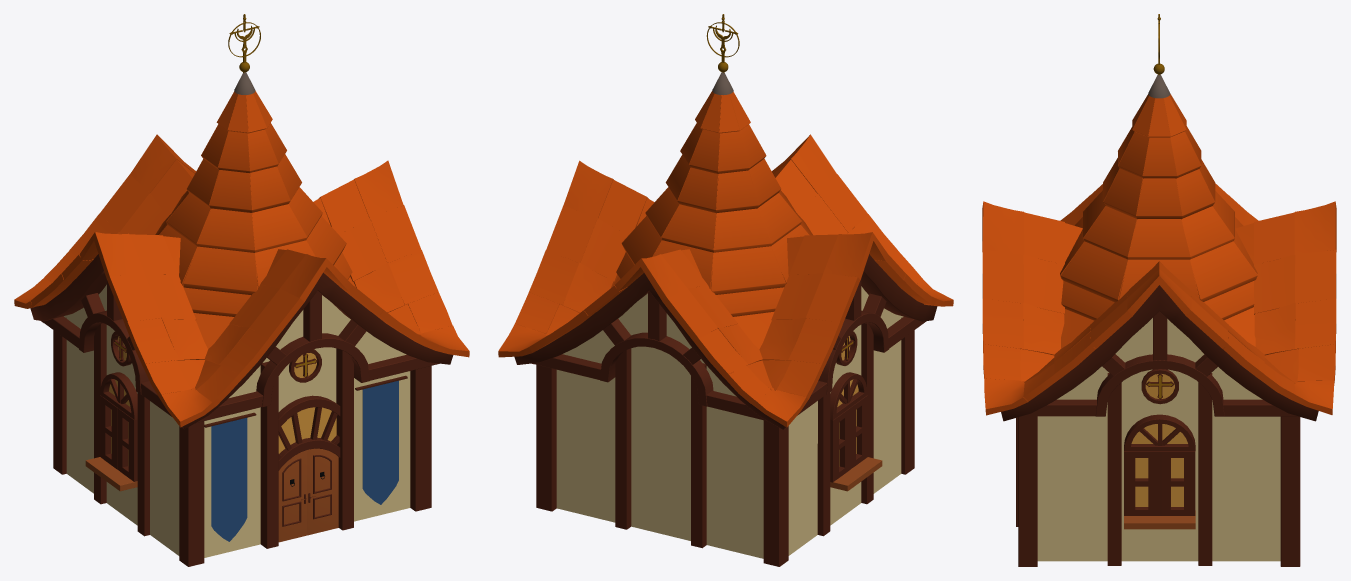
The model's file is Guild.fbx.
3 views of the same model, side by side, from view 1: azimuth 30°, elevation 25°; view 2: azimuth 150°, elevation 25°; view 3: azimuth 270°, elevation 25° (orthographic). The views are drawn at different scales.
Parts seen in each view (by area): view 1: Object068; view 2: Object068; view 3: Object068.
Part boxes in pixels (<box>): Object068: <box>14,14,469,566</box>; Object068: <box>498,14,953,566</box>; Object068: <box>982,14,1336,566</box>.
Bounding box in the file's own units: 1117 × 1710 × 1117.
